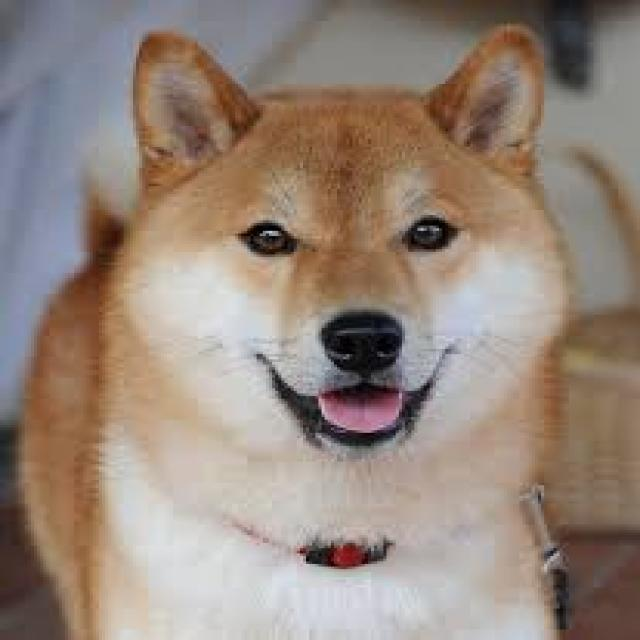dog: (22, 27, 577, 640)
